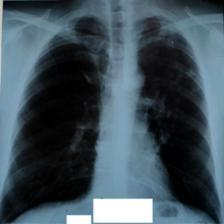tuberculosis: (1, 4, 224, 224)
